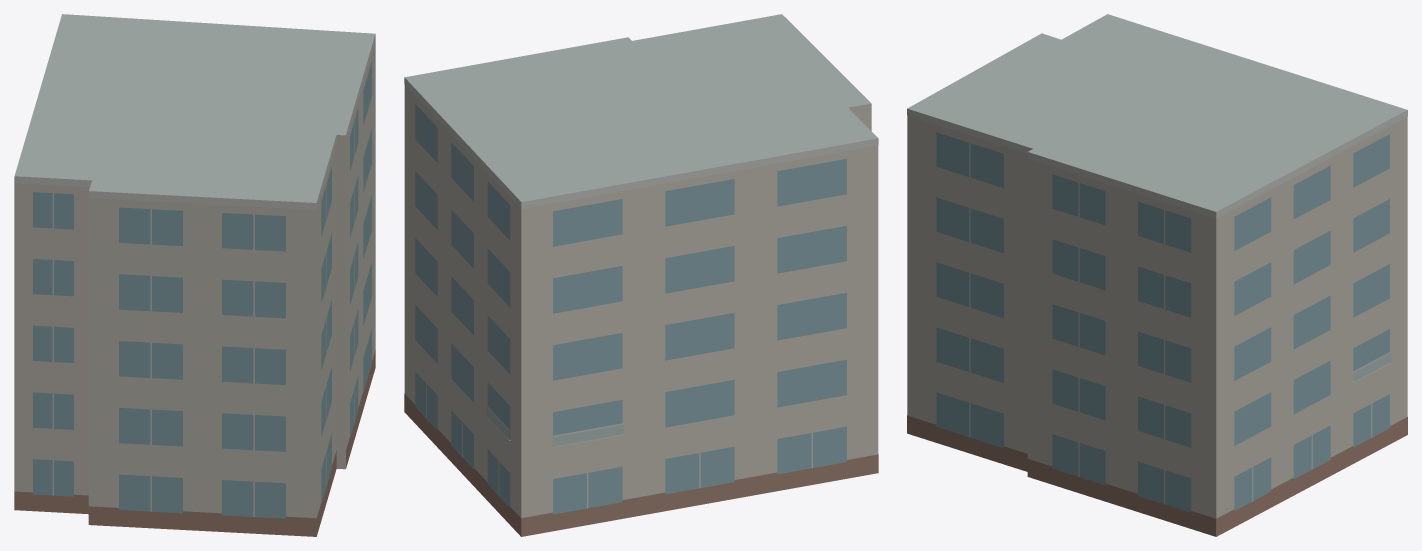
File: survey-upis-32652673.glb
3 views of the same model, side by side, from view 1: azimuth 30°, elevation 25°; view 2: azimuth 150°, elevation 25°; view 3: azimuth 270°, elevation 25° (orthographic). The views are drawn at different scales.
Parts seen in each view (by area): view 1: survey-upis-32652673.tmp; view 2: survey-upis-32652673.tmp; view 3: survey-upis-32652673.tmp.
Part boxes in pixels (left/top/right/bottom): survey-upis-32652673.tmp: left=14, top=14, right=375, bottom=536; survey-upis-32652673.tmp: left=404, top=14, right=878, bottom=536; survey-upis-32652673.tmp: left=907, top=14, right=1407, bottom=536.
Size of the model in its own units: 15.36 by 11.75 by 16.42.
